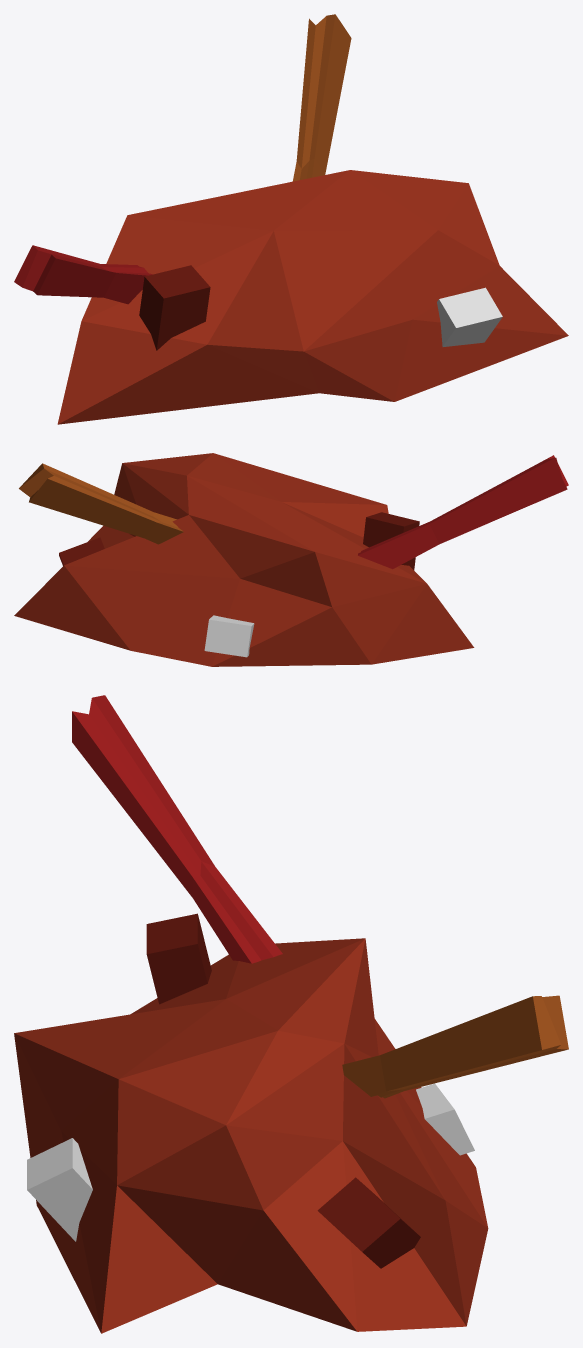
Rendered from debris1.FBX.
3 views of the same model, one above another, from view 1: azimuth 30°, elevation 25°; view 2: azimuth 150°, elevation 25°; view 3: azimuth 270°, elevation 25° (orthographic). The views are drawn at different scales.
Parts seen in each view (by area): view 1: debris2; view 2: debris2; view 3: debris2.
Part boxes in pixels (<box>): debris2: <box>14,14,568,424</box>; debris2: <box>14,453,568,666</box>; debris2: <box>14,695,568,1333</box>.
Bounding box in the file's own units: 47.73 × 18.14 × 31.22.
